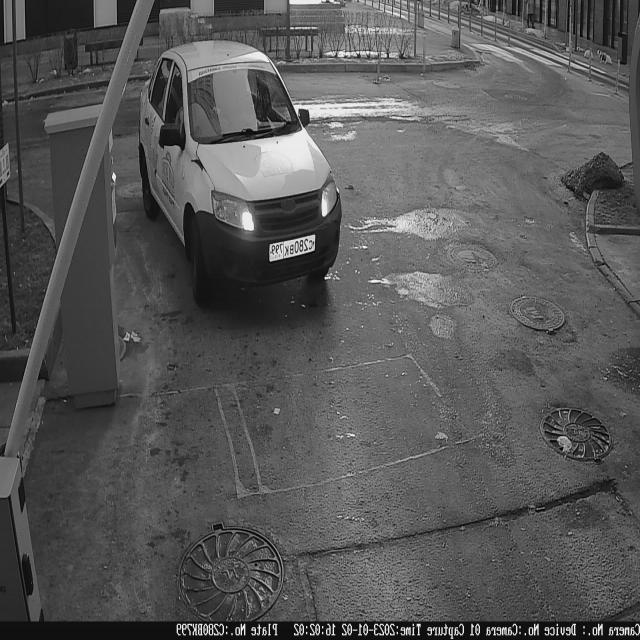car-plate-numbers: (269, 232, 318, 265)
